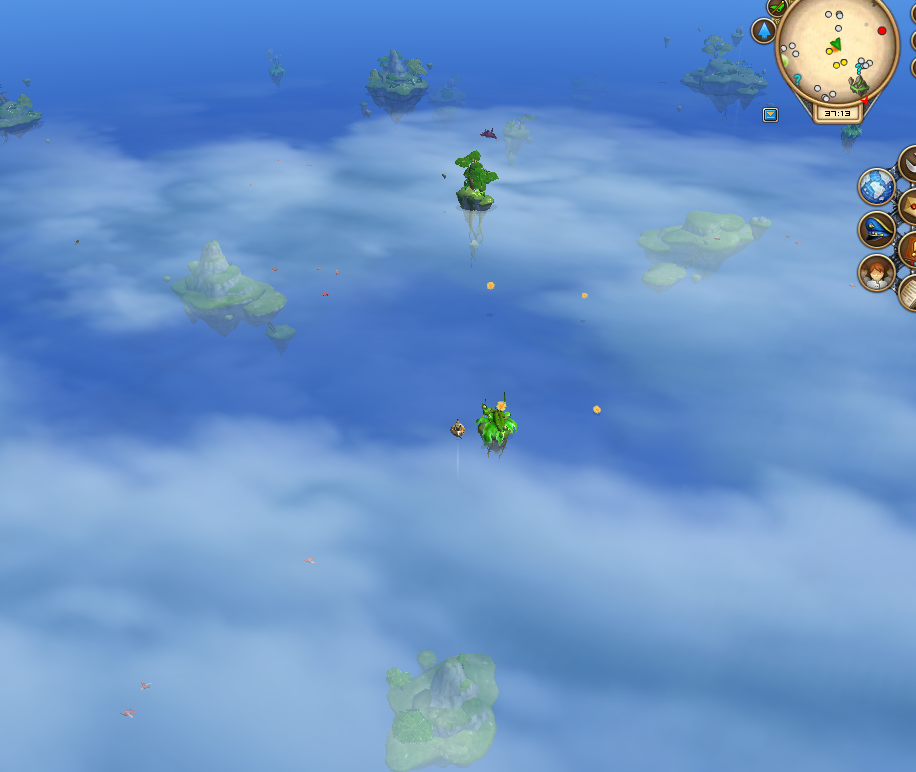dandelion-full: (474, 388, 517, 456), (265, 45, 287, 88)
fluff: (575, 288, 592, 305), (590, 401, 603, 418), (483, 278, 497, 293)
